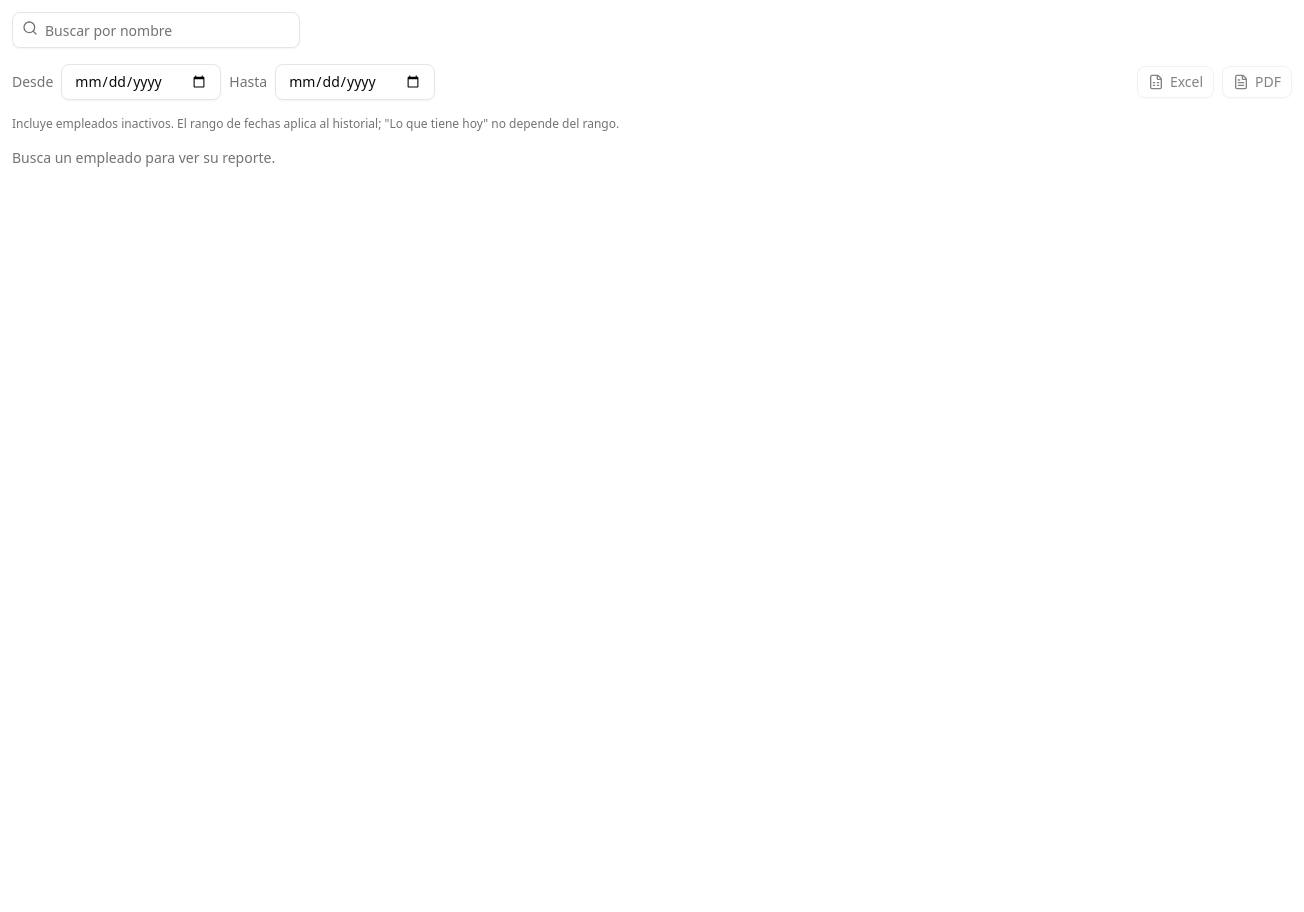
Test: EmployeeReportTab (008 US2, RN-022, RN-033) › muestra lo que tiene hoy y el historial del rango, con totales (US2)
In the search field named "Buscar empleado": {"x": 156, "y": 30} [12,12,300,48], type "Ana"
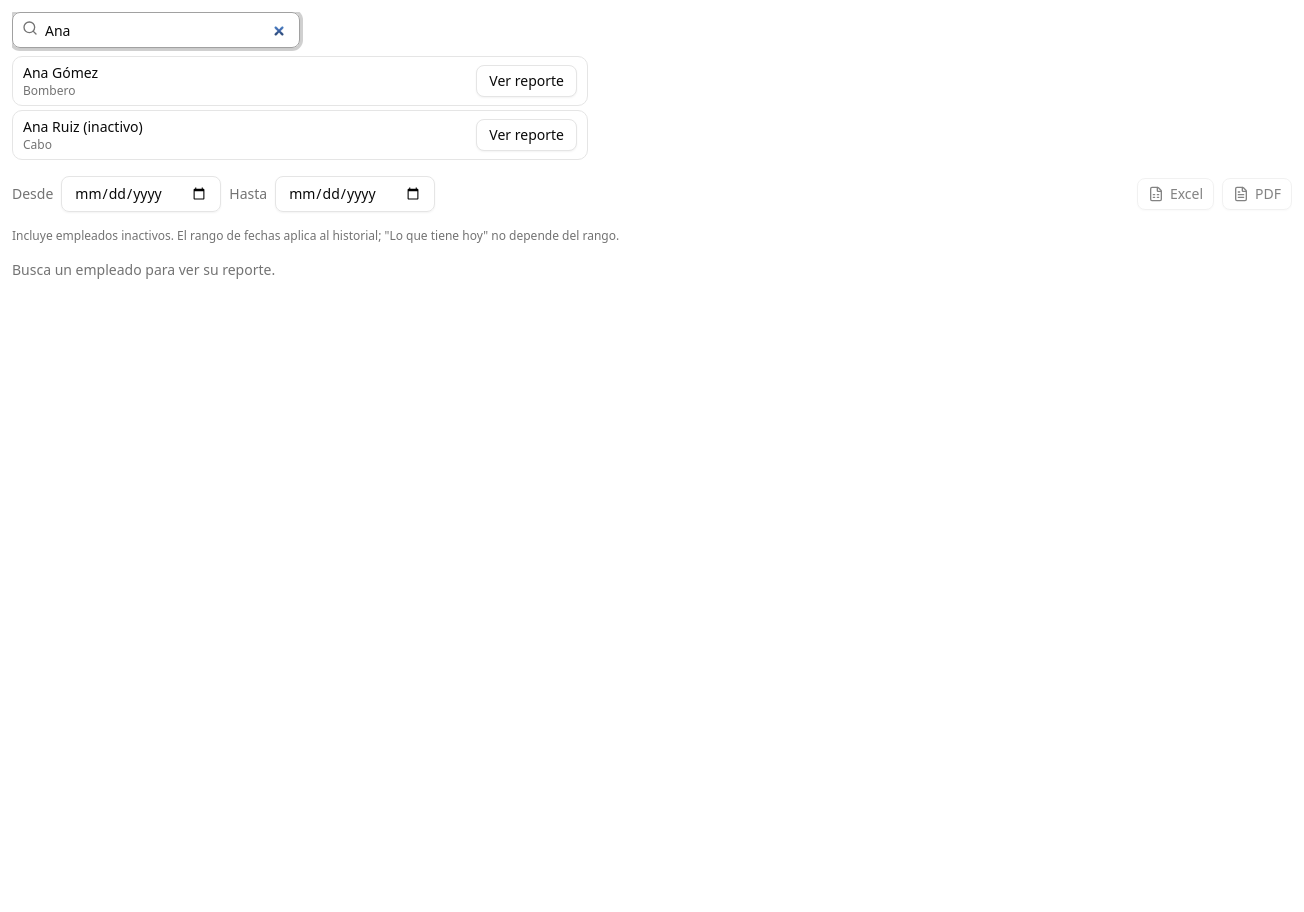
Click the button with aria-label "Ver reporte de Ana Gómez": {"x": 527, "y": 81} [476,65,577,97]
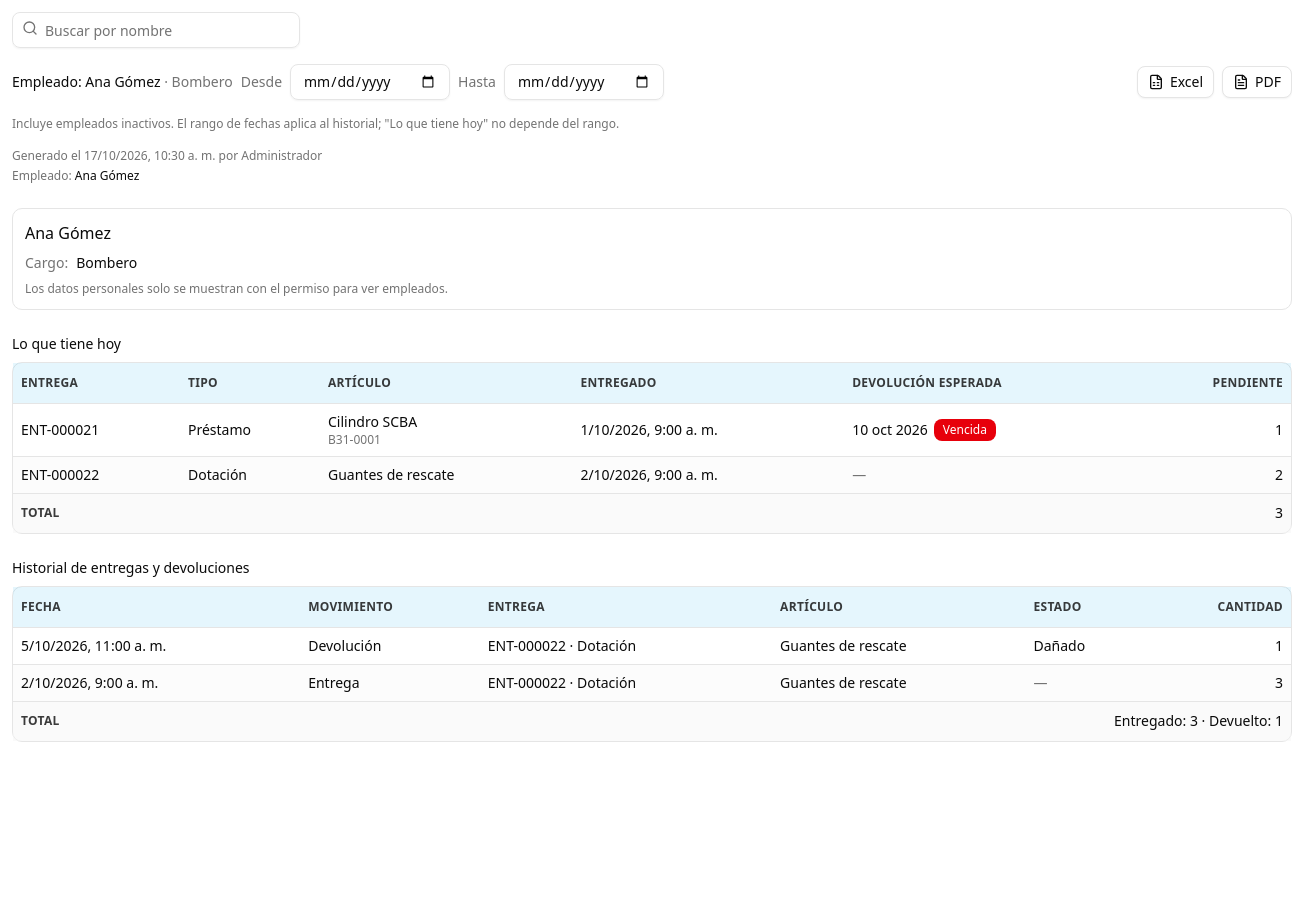
Result: the text "B31-0001" is shown at [328,430,381,448]
Result: the text "Vencida" is shown at [934,418,996,440]
Result: the cell "3" below "10 oct 2026" is shown at [1138,493,1291,533]
